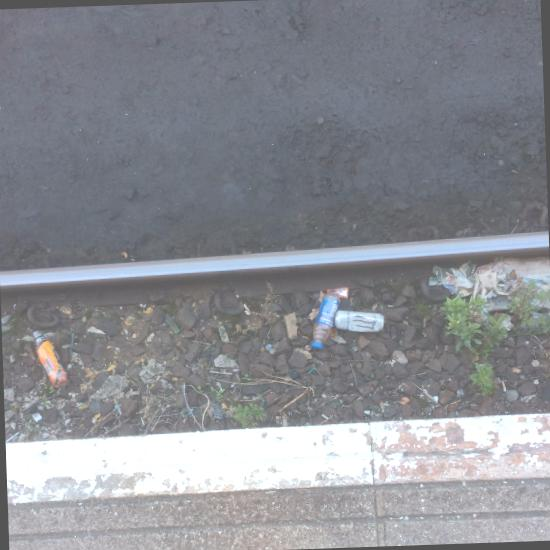Cigarette: (501, 380, 505, 393)
Clear plastic bottle: (32, 330, 70, 389), (311, 291, 340, 350)
Drink can: (335, 310, 384, 332)
Metal bottle cap: (269, 347, 276, 354), (305, 345, 312, 351), (266, 344, 272, 351)
Normal paper: (429, 257, 550, 324)
Other plastic: (327, 287, 348, 298)
Other plastic bottle: (307, 368, 314, 375)
Plastic bottle cap: (311, 343, 323, 350), (290, 371, 298, 378)
Plastic utensils: (32, 413, 42, 423)
Unlabeled litter: (6, 432, 20, 443), (115, 404, 122, 415), (187, 410, 191, 415), (191, 408, 194, 413)
